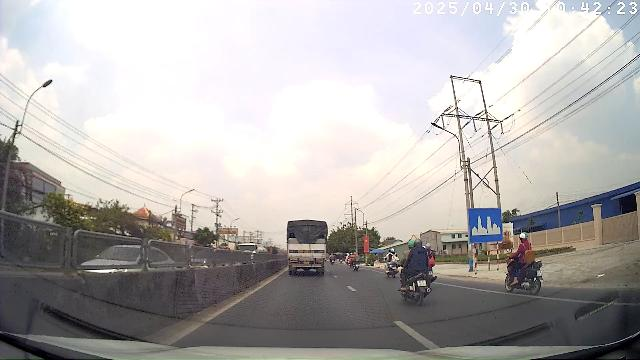420-bat-dau-khu-dong-dan-cu: (469, 208, 503, 241)
